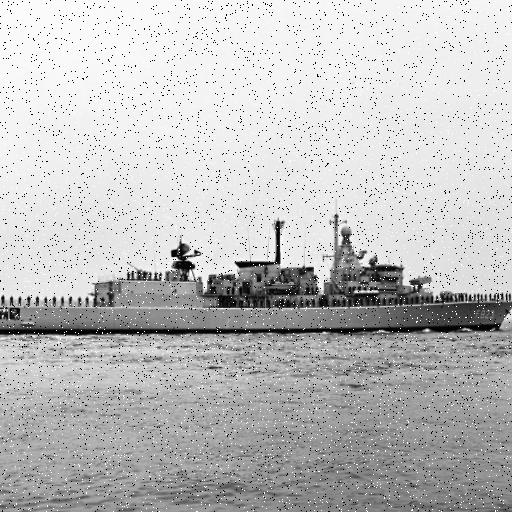Fragata: (1, 192, 512, 341)
